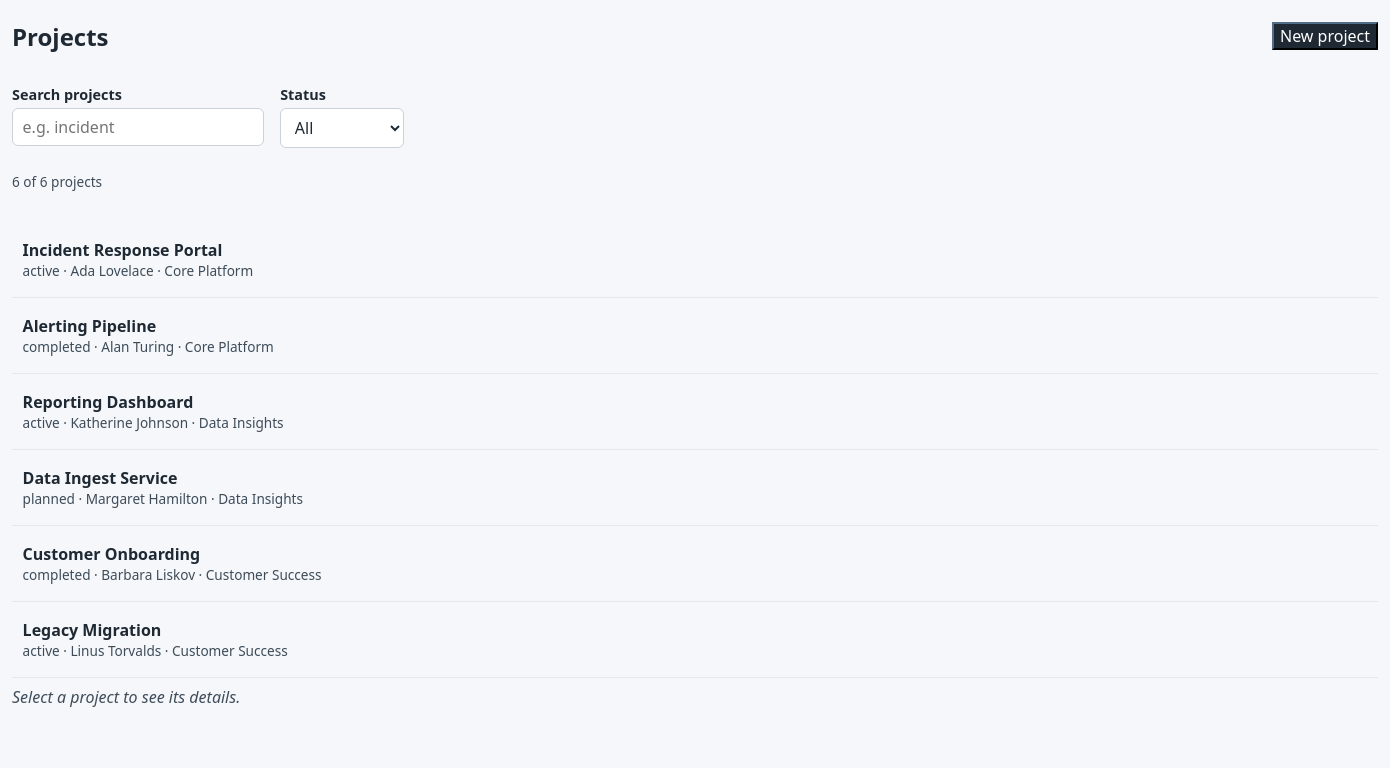
Scenario: ProjectsComponent › shows an explicit empty state when nothing matches (PRJ-LIST-4)
The image size is (1390, 768).
Type "zzzz" into the search field labelled "Search projects". click: [138, 127]
box: [12, 108, 264, 146]
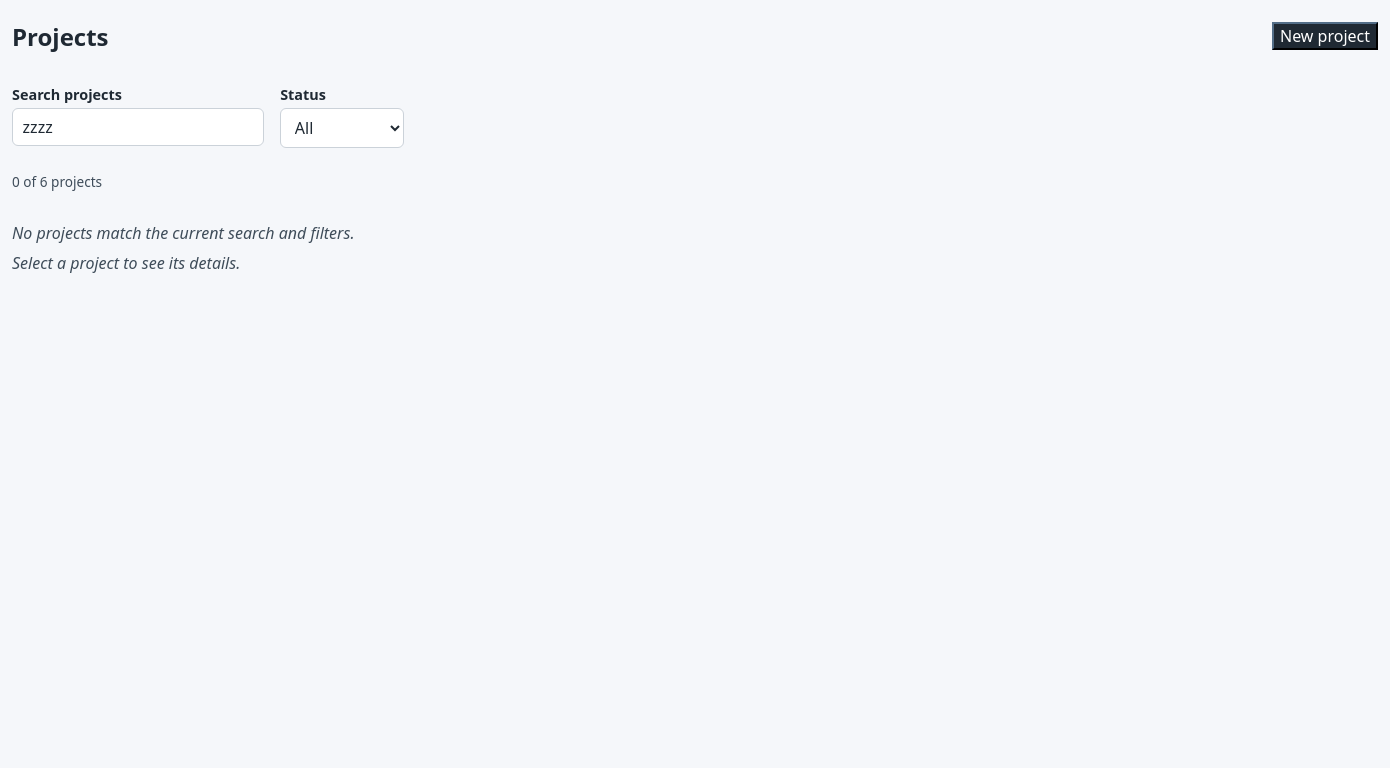
Expected: the text "No projects match the current search and filters." is shown, [12, 222, 354, 244]
